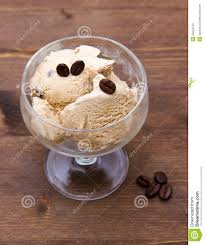ice-cream: (64, 77, 138, 149), (35, 49, 112, 104)
